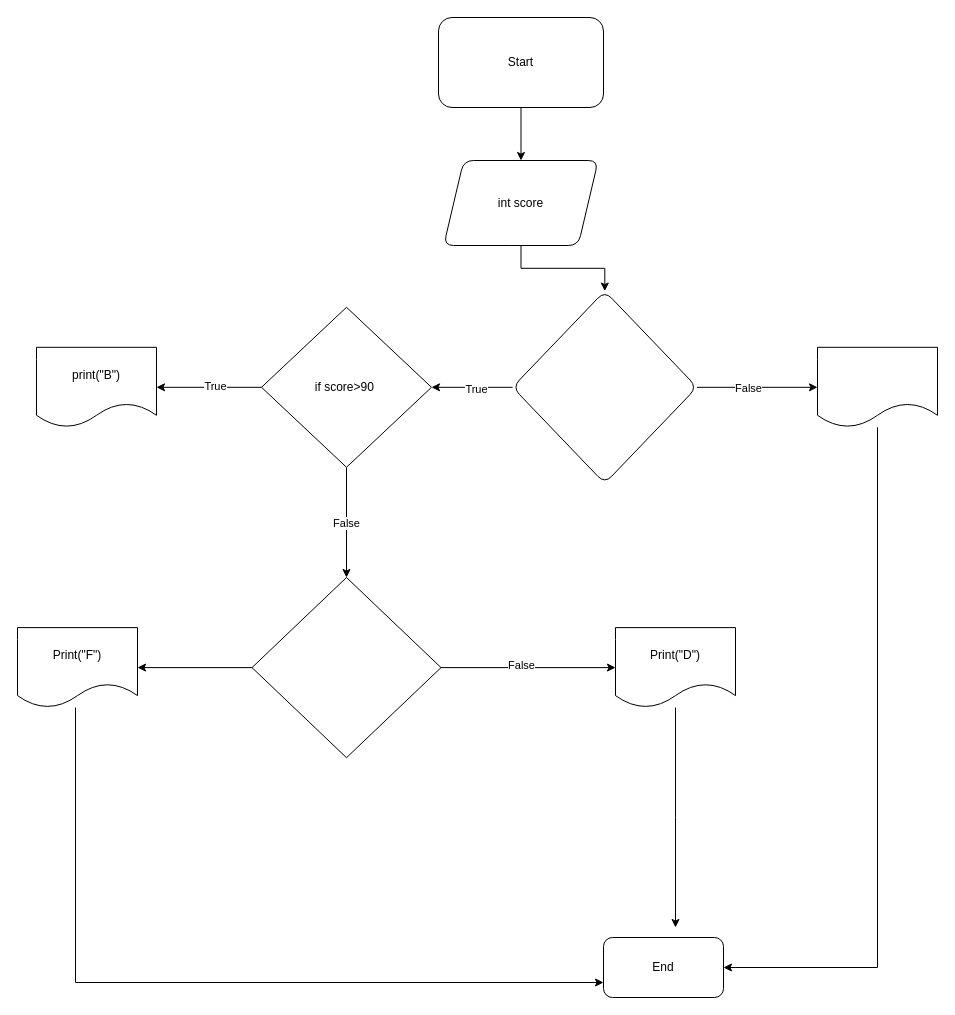
The diagram is 955 pixels wide and 1015 high, and some of its shapes have lost their labels. Here are the shapes that lost their labels. From the top down, the centre of each, then its label:
the point at 604,387: if score>0 & num<101
the point at 877,386: print("invalid value")
the point at 346,667: if score <50
